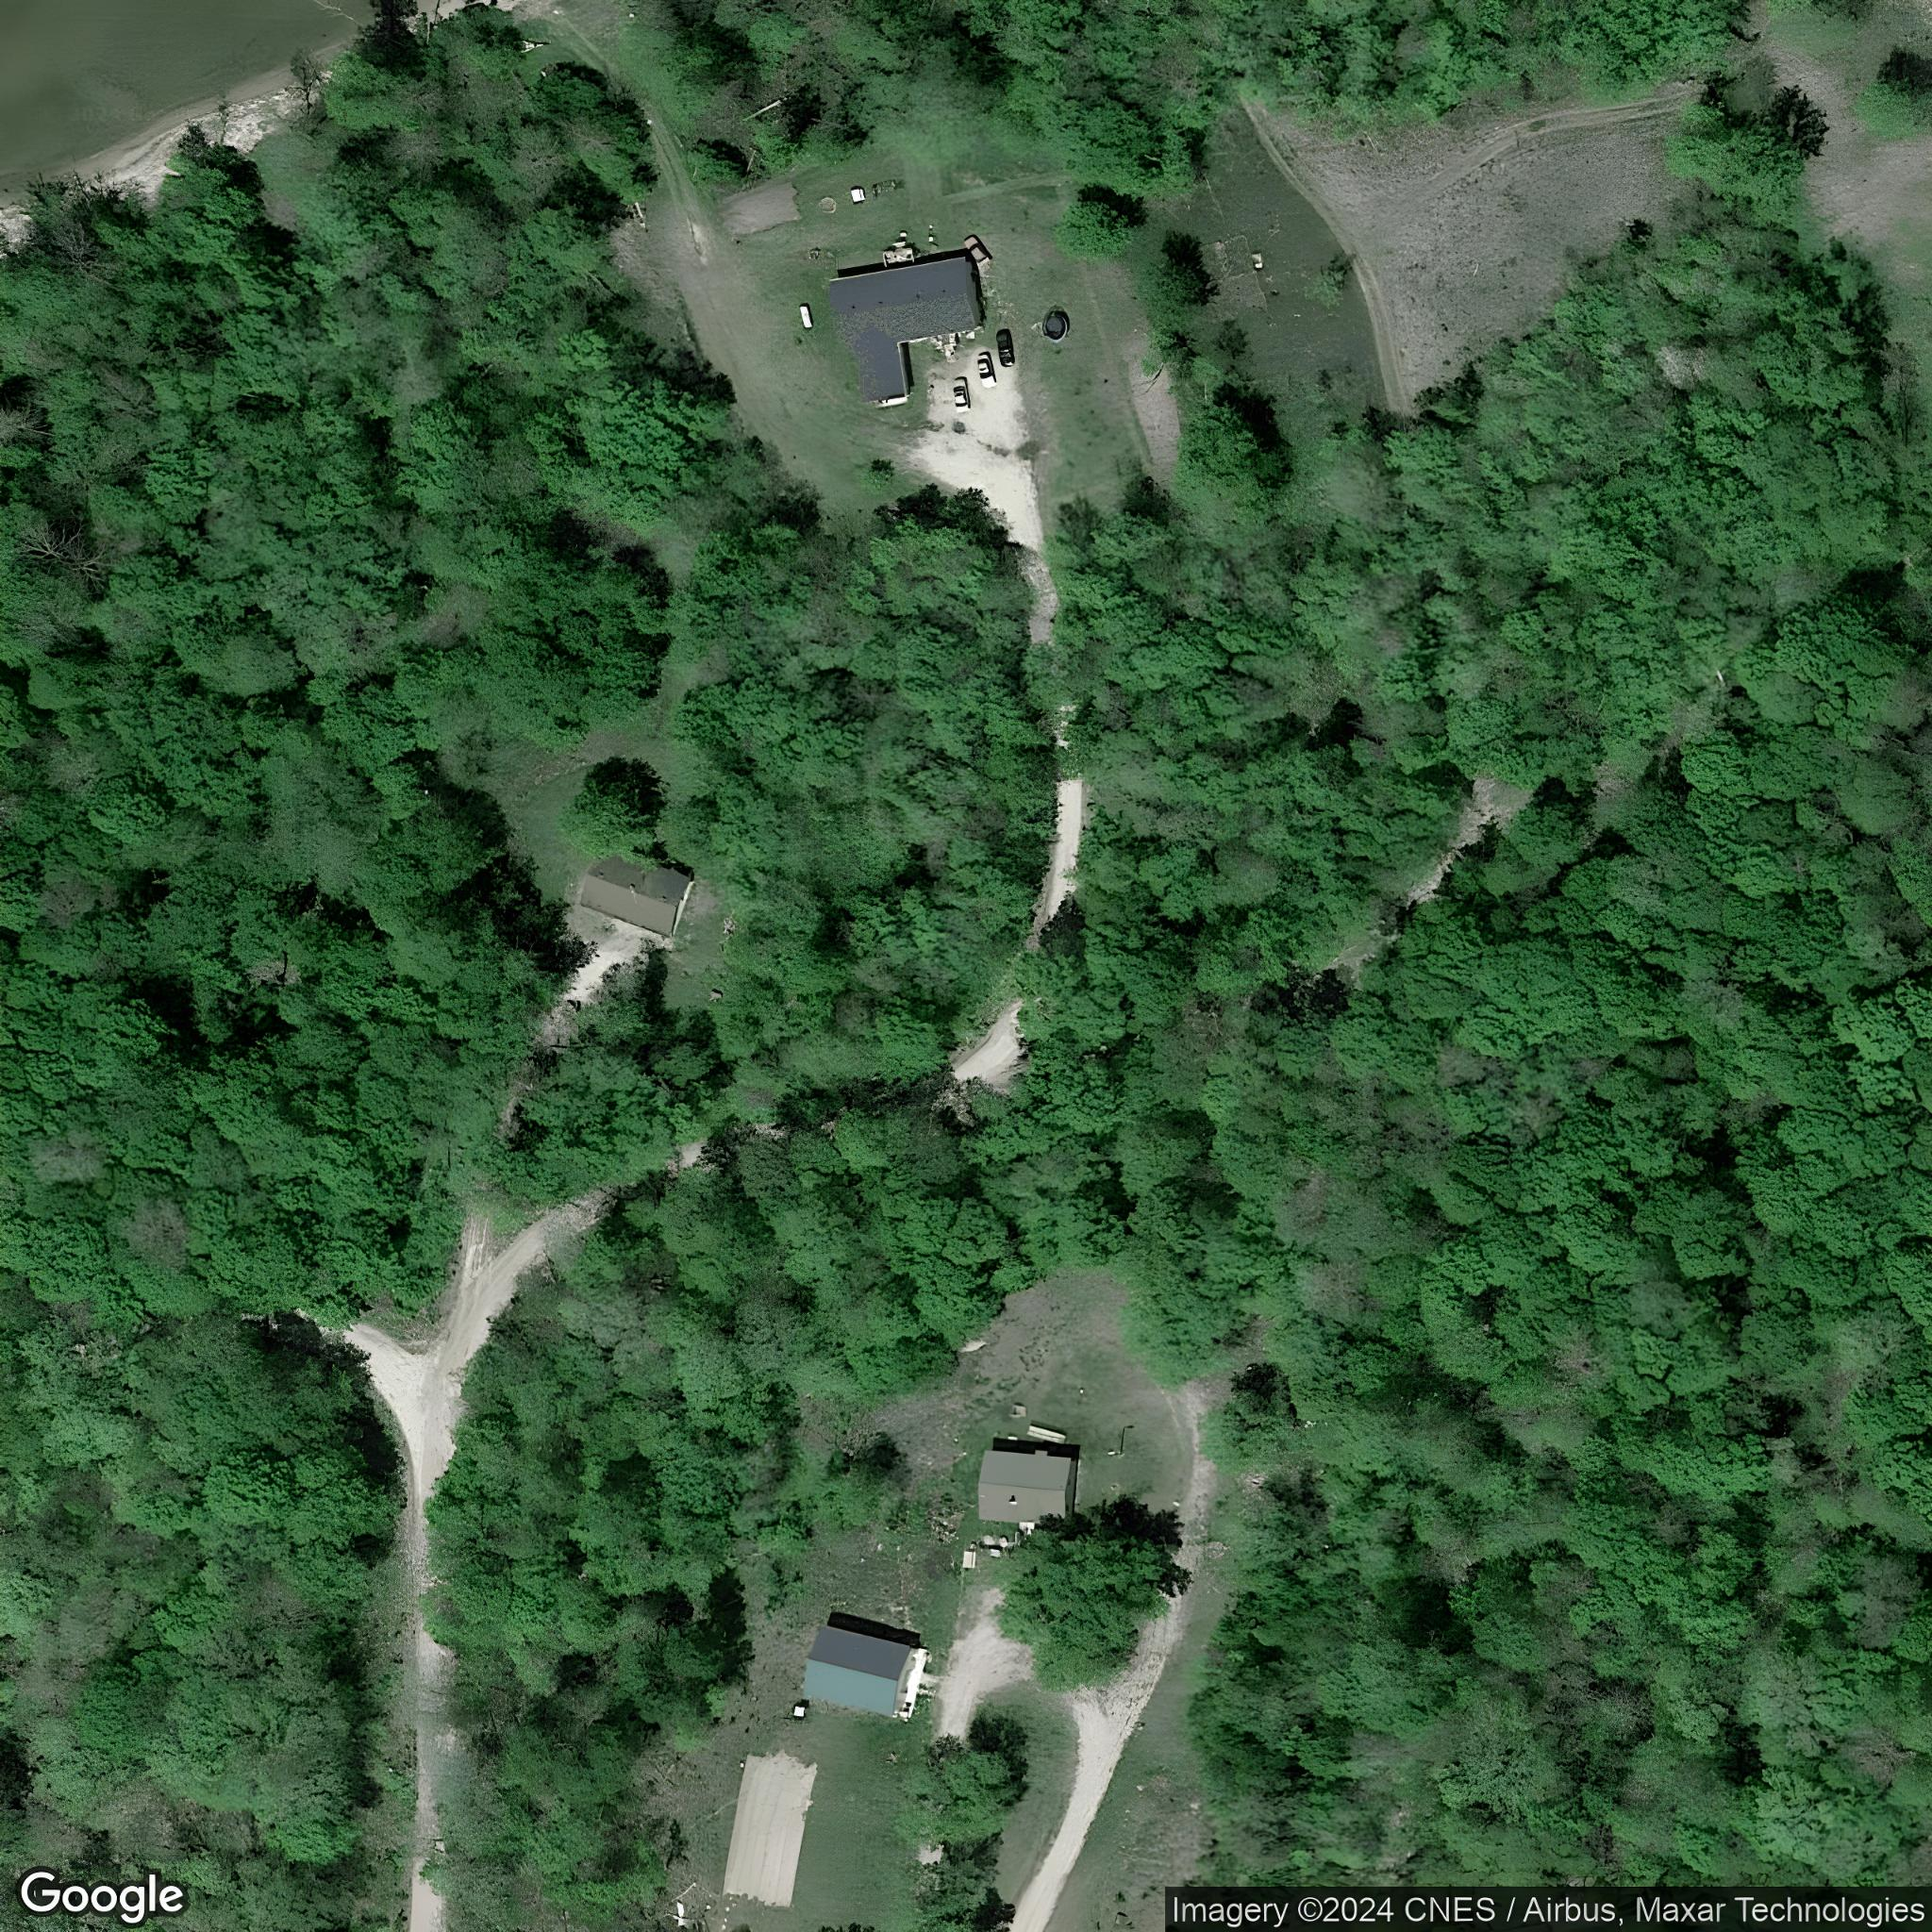Garage: (803, 1624, 916, 1721)
House: (824, 257, 985, 409), (575, 844, 697, 938), (977, 1449, 1077, 1527)
Propane: (798, 301, 816, 333)
